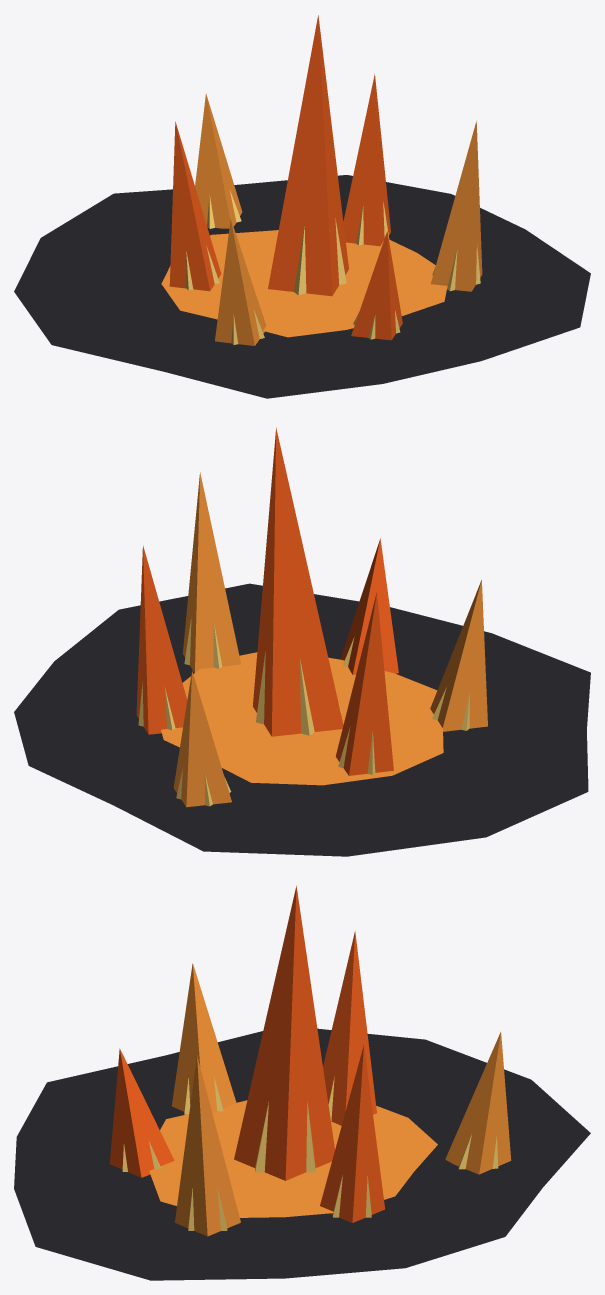
The model's file is pyro_fire.glb.
The picture shows the model from 3 angles, top to bottom: view 1: azimuth 30°, elevation 25°; view 2: azimuth 150°, elevation 25°; view 3: azimuth 270°, elevation 25°; orthographic projection. The views are drawn at different scales.
Parts seen in each view (by area): view 1: pyro_fire; view 2: pyro_fire; view 3: pyro_fire.
Part boxes in pixels (x1,y1,x2,y2): pyro_fire: (14,15,590,398); pyro_fire: (14,428,590,856); pyro_fire: (14,885,590,1280).
Size of the model in its own units: 1.61 by 0.8651 by 1.54.
1 material, 1 textured.
